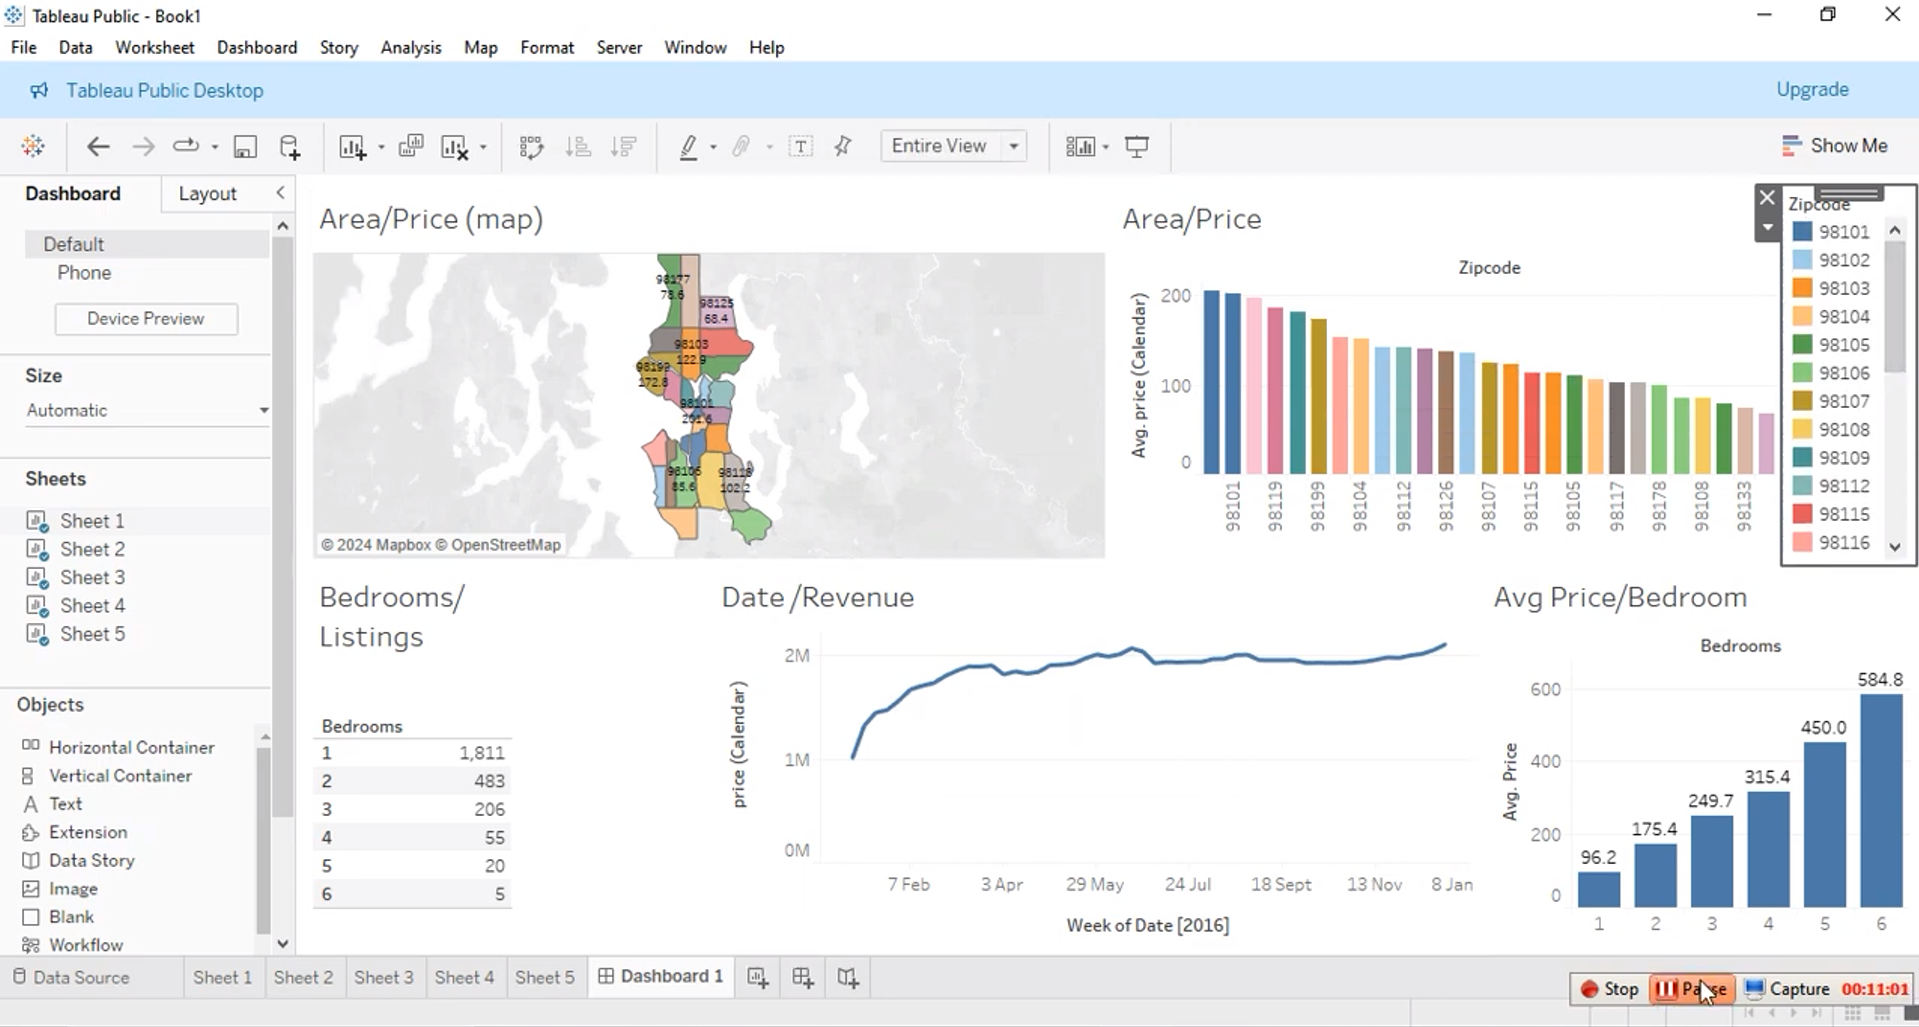

What the dashboard file says about the page in this screenshot:
{"tool":"tableau","page":{"name":"Dashboard 1","canvas":[1000,1000],"units":"permille","ordinal":0},"visuals":[{"type":"worksheet","title":"Sheet 2","mark":"Multipolygon","box":[6.9,14.5,493.1,615.9]},{"type":"worksheet","title":"Sheet 1","mark":"Automatic","rows":["price (Calendar)"],"cols":["zipcode"],"box":[500,14.5,411.7,615.9]},{"type":"legend","title":"Sheet 1","param":"[federated.1tocsk80au1dnb12io3ot1kaaxe9].[none:zipcode:ok]","box":[911.7,14.5,81.4,615.9]},{"type":"worksheet","title":"Sheet 5","mark":"Automatic","rows":["bedrooms"],"box":[6.9,630.4,189.6,355.1]},{"type":"worksheet","title":"Sheet 3","mark":"Automatic","rows":["price (Calendar)"],"cols":["date"],"box":[196.5,630.4,530.7,355.1]},{"type":"worksheet","title":"Sheet 4","mark":"Automatic","rows":["price"],"cols":["bedrooms"],"box":[727.3,630.4,265.8,355.1]}]}

Visuals, with their boxes on the dashboard's canvas, which has no fixed pixel size, in thousandths of its width and height (x1, y1, x2, y2). These are canvas units, not pixel positions in the 1919x1027 screenshot, which may show the page scaled, cropped or inside an application window:
"Sheet 2" worksheet (Multipolygon marks): <bbox>7, 14, 500, 630</bbox>
"Sheet 1" worksheet: <bbox>500, 14, 912, 630</bbox>
"Sheet 1" legend: <bbox>912, 14, 993, 630</bbox>
"Sheet 5" worksheet: <bbox>7, 630, 196, 986</bbox>
"Sheet 3" worksheet: <bbox>196, 630, 727, 986</bbox>
"Sheet 4" worksheet: <bbox>727, 630, 993, 986</bbox>
